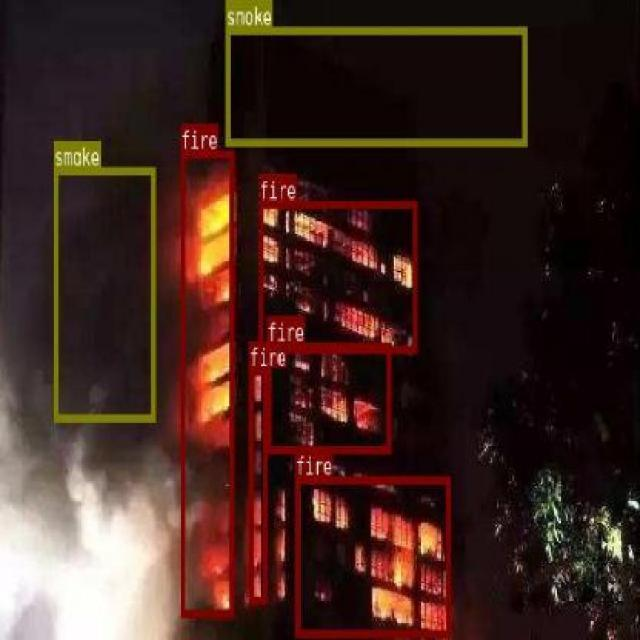Fire: (180, 150, 234, 616), (294, 476, 449, 636), (258, 200, 417, 352), (266, 341, 391, 452), (248, 367, 266, 602)
Smoke: (224, 26, 526, 146), (53, 166, 155, 420)
